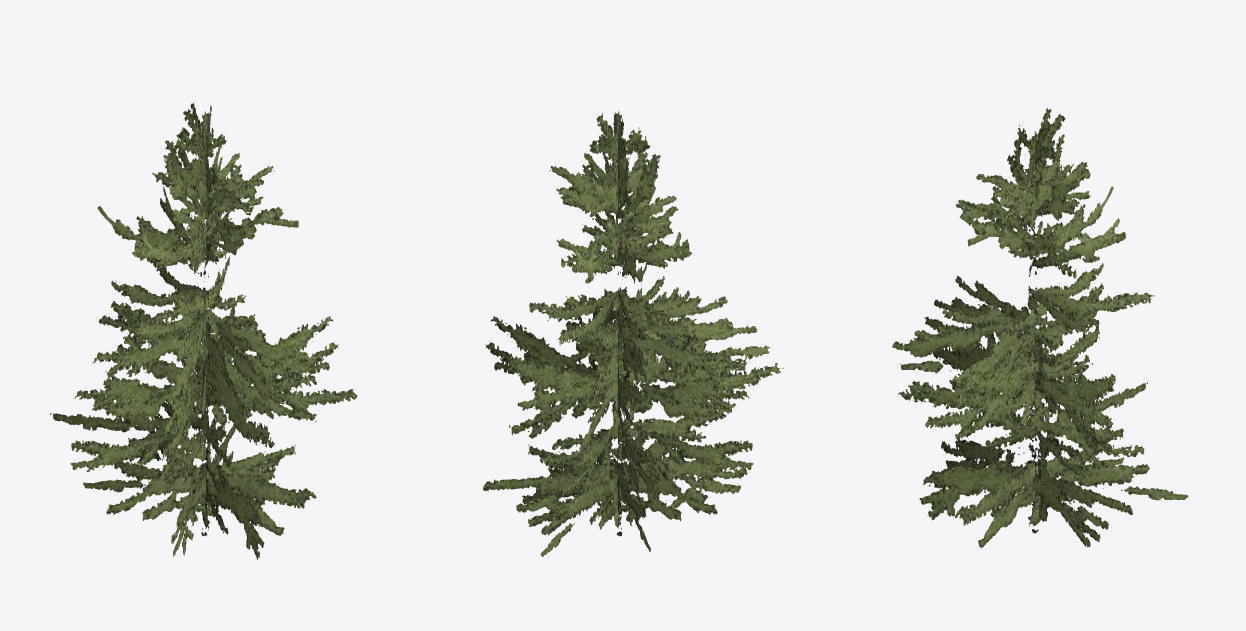
File: bush_fir_a_bb.glb
3 renders of one model, left to right at view 1: azimuth 30°, elevation 25°; view 2: azimuth 150°, elevation 25°; view 3: azimuth 270°, elevation 25°, orthographic.
Parts seen in each view (by area): view 1: bush_fir_a_billboard; view 2: bush_fir_a_billboard; view 3: bush_fir_a_billboard.
Boxes of the visible parts, bbox=[...] form: bush_fir_a_billboard: bbox=[50, 103, 357, 559]; bush_fir_a_billboard: bbox=[483, 111, 783, 556]; bush_fir_a_billboard: bbox=[892, 108, 1188, 548].
Bounding box in the file's own units: 1.1 × 1.34 × 1.1.
1 material, 1 textured.
